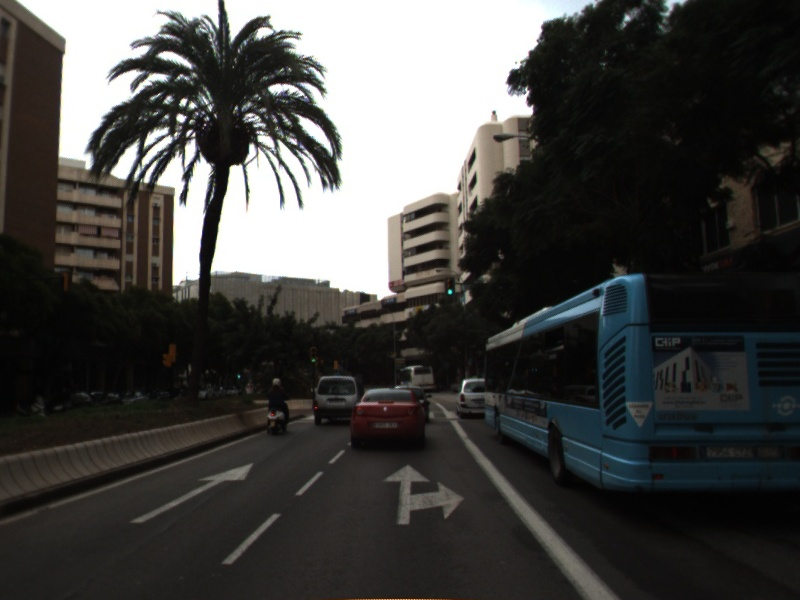STRAIGHT: (128, 461, 255, 525)
STRAIGHT_RIGHT: (380, 462, 467, 527)
